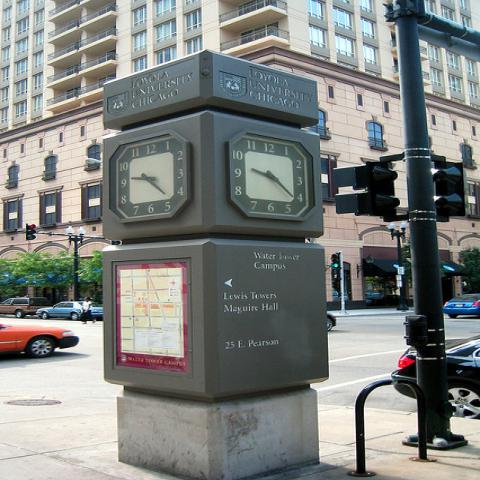car: (391, 335, 479, 419), (0, 321, 80, 357), (36, 301, 104, 320), (0, 296, 54, 317), (444, 294, 480, 318), (325, 310, 338, 332)
